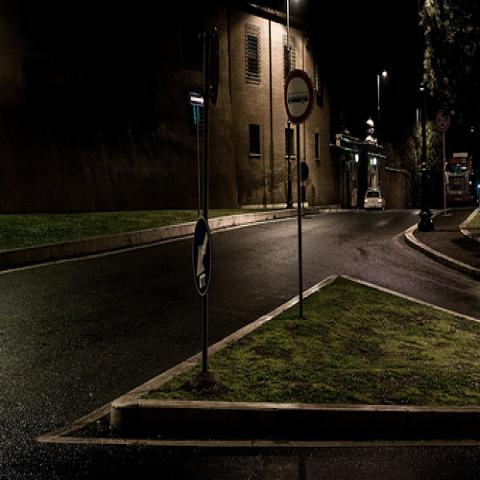car: (363, 190, 384, 212)
